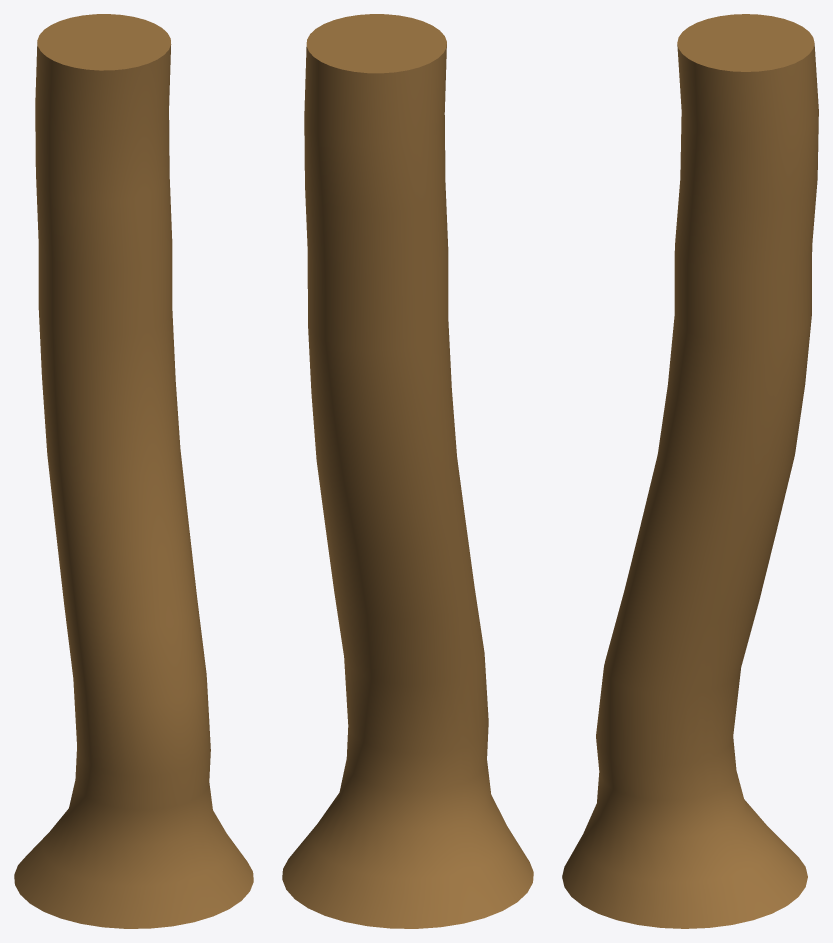
File: tree_trunk.fbx
3 renders of one model, left to right at view 1: azimuth 30°, elevation 25°; view 2: azimuth 150°, elevation 25°; view 3: azimuth 270°, elevation 25°, orthographic. The views are drawn at different scales.
Parts seen in each view (by area): view 1: less curvy.003; view 2: less curvy.003; view 3: less curvy.003.
Part boxes in pixels (<box>): less curvy.003: <box>14,14,253,928</box>; less curvy.003: <box>282,14,533,928</box>; less curvy.003: <box>562,14,818,928</box>.
Size of the model in its own units: 55.49 by 208 by 57.95.
